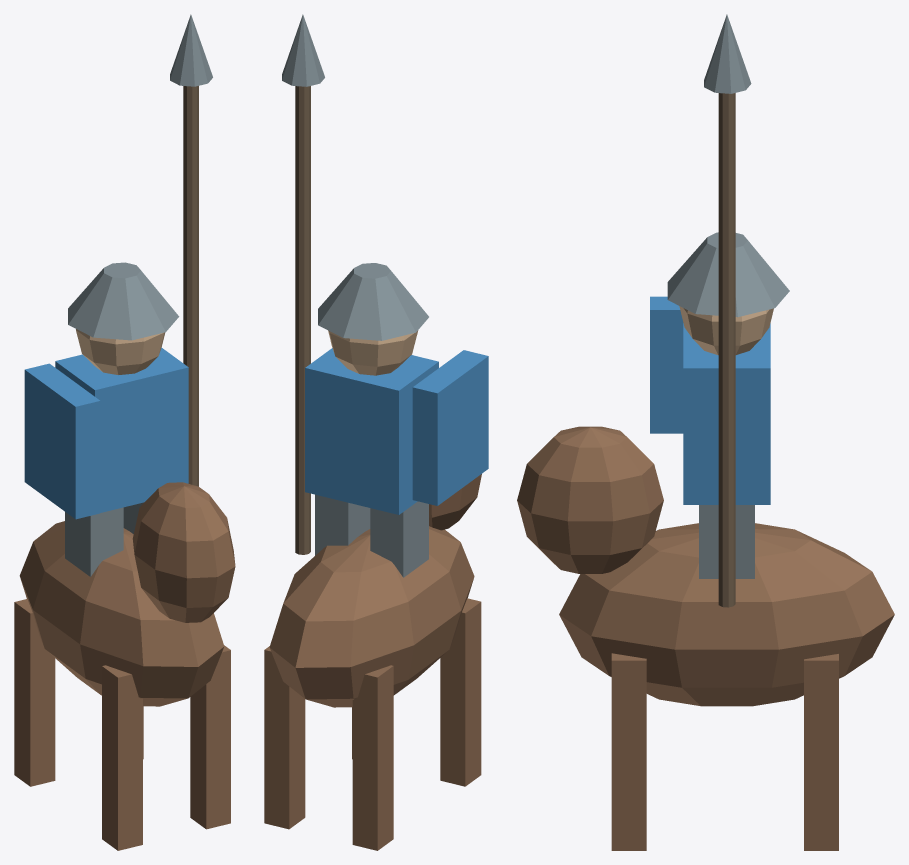
Rendered from ally_cavalry.glb.
3 renders of one model, left to right at view 1: azimuth 30°, elevation 25°; view 2: azimuth 150°, elevation 25°; view 3: azimuth 270°, elevation 25°, orthographic. The views are drawn at different scales.
Visible parts, largest first — view 1: Horse body, Tunic.001, Horse head, Shield.001, Horse leg, Horse leg.001, Horse leg.002, Helmet.001, Spear.001, Boot.002, Head.001, Spear point.001; view 2: Horse body, Tunic.001, Shield.001, Horse leg.001, Horse leg, Spear.001, Horse leg.003, Helmet.001, Boot.002, Head.001, Boot.003, Spear point.001 (+1 smaller); view 3: Horse body, Horse head, Tunic.001, Spear.001, Horse leg.002, Horse leg.003, Helmet.001, Shield.001, Boot.003, Head.001, Spear point.001.
Boxes of the visible parts, x1,y1,x2,y2 form: Horse body: [19, 521, 224, 706]; Tunic.001: [55, 347, 188, 512]; Horse head: [132, 482, 235, 622]; Shield.001: [24, 363, 100, 519]; Horse leg: [102, 665, 142, 850]; Horse leg.001: [14, 599, 55, 786]; Horse leg.002: [190, 645, 230, 829]; Helmet.001: [68, 262, 179, 340]; Spear.001: [183, 86, 198, 486]; Boot.002: [65, 507, 123, 576]; Head.001: [76, 329, 165, 374]; Spear point.001: [170, 14, 212, 86]; Horse body: [269, 526, 474, 707]; Tunic.001: [305, 348, 438, 514]; Shield.001: [412, 350, 488, 505]; Horse leg.001: [352, 665, 393, 850]; Horse leg: [440, 598, 481, 786]; Spear.001: [295, 86, 310, 554]; Horse leg.003: [264, 646, 305, 829]; Helmet.001: [318, 263, 428, 340]; Boot.002: [370, 501, 428, 577]; Head.001: [328, 330, 418, 375]; Boot.003: [315, 494, 370, 555]; Spear point.001: [282, 14, 324, 86]; Horse body: [559, 523, 894, 706]; Horse head: [517, 426, 663, 573]; Tunic.001: [683, 323, 770, 504]; Spear.001: [718, 93, 735, 607]; Horse leg.002: [611, 653, 646, 850]; Horse leg.003: [804, 654, 838, 850]; Helmet.001: [667, 232, 789, 317]; Shield.001: [650, 296, 683, 433]; Boot.003: [699, 505, 754, 578]; Head.001: [679, 306, 773, 355]; Spear point.001: [704, 14, 751, 93].
Bounding box in the file's own units: 0.6139 × 2.66 × 1.08.
